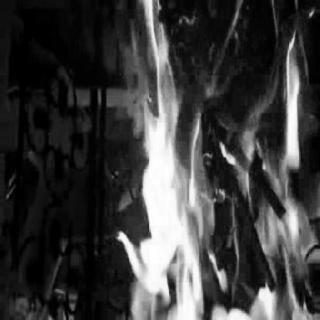Fire: (112, 2, 320, 320)
